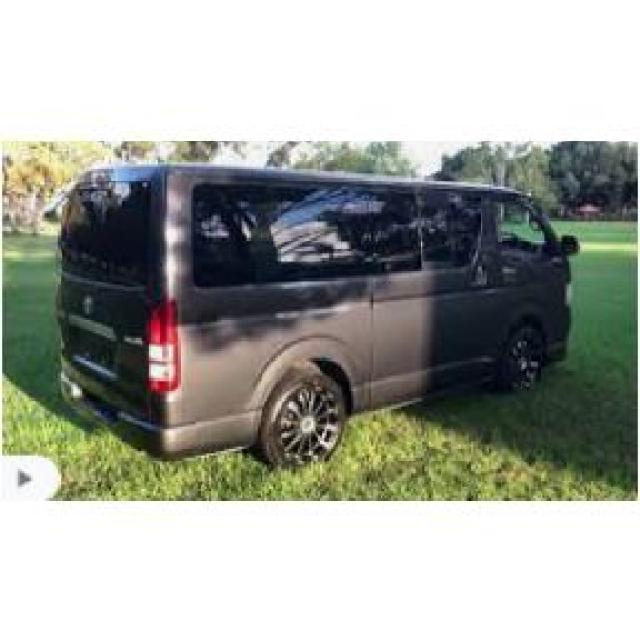Van: (63, 164, 581, 469)
